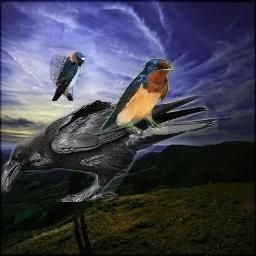Crow: (1, 95, 218, 202)
Swallow: (99, 58, 174, 133), (49, 51, 85, 101)
